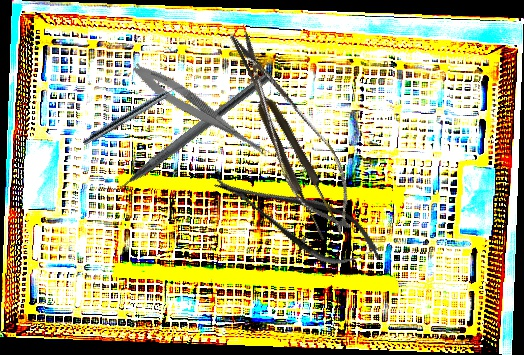Chopper: (96, 60, 273, 205)
Handpiece: (81, 80, 186, 149)
Micro Scissor: (212, 20, 373, 248), (204, 154, 392, 284), (128, 58, 276, 163)
Tissue Forceps: (219, 27, 345, 243)
